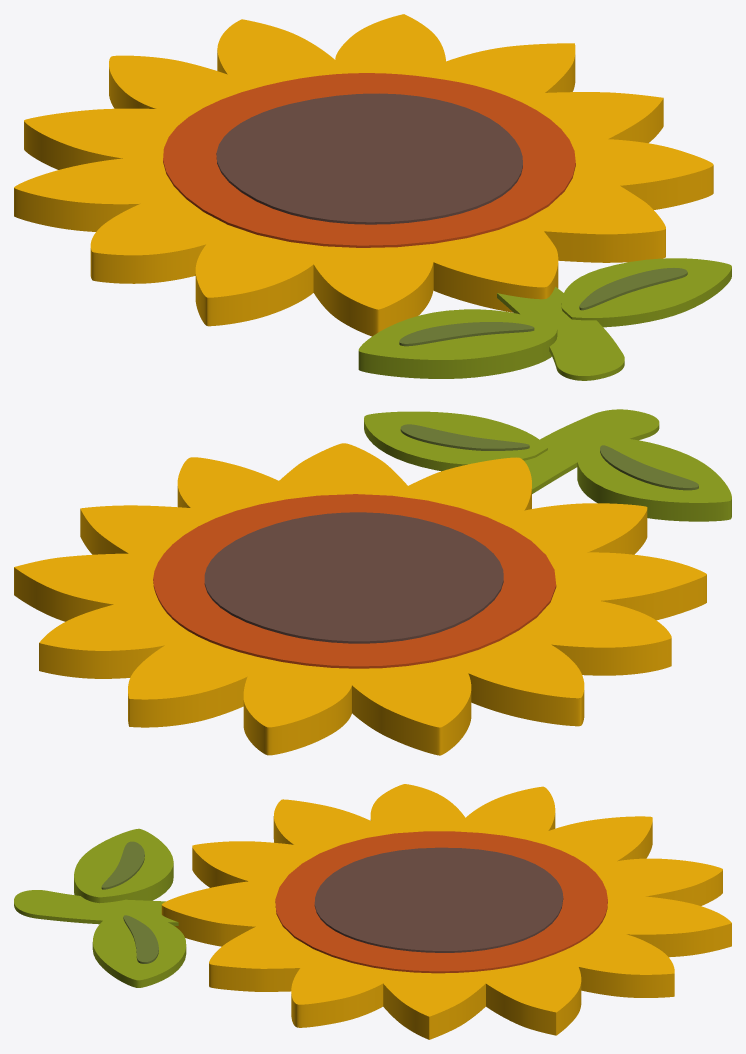
Rendered from emoji_u1f33b.glb.
The picture shows the model from 3 angles, top to bottom: view 1: azimuth 30°, elevation 25°; view 2: azimuth 150°, elevation 25°; view 3: azimuth 270°, elevation 25°; orthographic projection. The views are drawn at different scales.
Visible parts, largest first — view 1: emoji_u1f33b; view 2: emoji_u1f33b; view 3: emoji_u1f33b.
Part boxes in pixels (x1,y1,x2,y2): emoji_u1f33b: (14,14,731,380); emoji_u1f33b: (14,409,731,755); emoji_u1f33b: (14,784,731,1039).
Size of the model in its own units: 0.0258 by 0.0016 by 0.0337.
